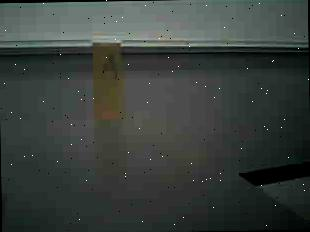Bottle A: (89, 29, 130, 124)
